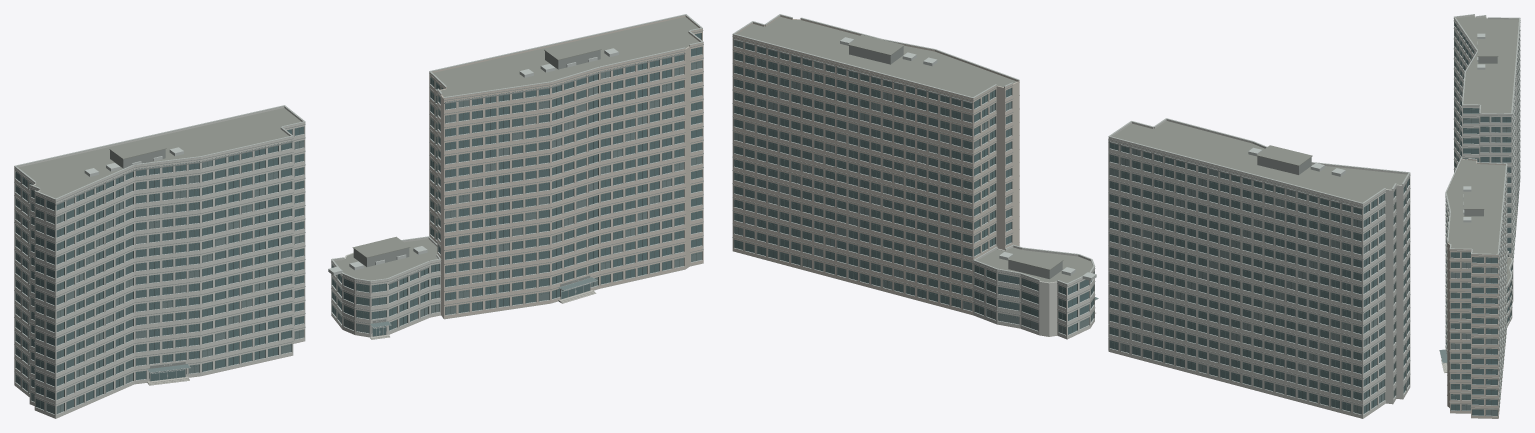
Rendered from north_faculty_blocks.glb.
The picture shows the model from 3 angles, left to right: view 1: azimuth 30°, elevation 25°; view 2: azimuth 150°, elevation 25°; view 3: azimuth 270°, elevation 25°; orthographic projection. The views are drawn at different scales.
Visible parts, largest first — view 1: TeachingAdministration_FacultyPalePanel, ManagementResearch_FacultyWarmPanel, TeachingAdministration_WindowGlass, ManagementResearch_WindowGlass, TeachingAdministration_FacultyDarkPanel, ManagementResearch_FacultyRoof, TeachingAdministration_FacultyRoof, TeachingAdministration_WindowReveal, ManagementResearch_FacultyDarkPanel, TeachingAdministration_WindowAluminium, ManagementResearch_WindowAluminium, ManagementResearch_WindowReveal (+11 smaller); view 2: TeachingAdministration_FacultyPalePanel, ManagementResearch_FacultyWarmPanel, TeachingAdministration_WindowGlass, ManagementResearch_WindowGlass, TeachingAdministration_FacultyDarkPanel, TeachingAdministration_WindowReveal, TeachingAdministration_FacultyRoof, ManagementResearch_FacultyRoof, ManagementResearch_FacultyDarkPanel, ManagementResearch_WindowReveal, TeachingAdministration_WindowAluminium, TeachingAdministration_WindowRubber (+11 smaller); view 3: ManagementResearch_FacultyWarmPanel, ManagementResearch_FacultyRoof, TeachingAdministration_FacultyRoof, ManagementResearch_WindowGlass, TeachingAdministration_FacultyPalePanel, ManagementResearch_FacultyDarkPanel, TeachingAdministration_FacultyDarkPanel, ManagementResearch_WindowAluminium, TeachingAdministration_WindowGlass, TeachingAdministration_WindowAluminium, ManagementResearch_WindowReveal, TeachingAdministration_WindowReveal (+8 smaller).
Part boxes in pixels (<box>): TeachingAdministration_FacultyPalePanel: <box>14,106,305,418</box>; ManagementResearch_FacultyWarmPanel: <box>429,15,703,318</box>; TeachingAdministration_WindowGlass: <box>16,126,303,409</box>; ManagementResearch_WindowGlass: <box>430,33,701,312</box>; TeachingAdministration_FacultyDarkPanel: <box>14,124,305,404</box>; ManagementResearch_FacultyRoof: <box>433,17,699,96</box>; TeachingAdministration_FacultyRoof: <box>18,108,301,198</box>; TeachingAdministration_WindowReveal: <box>15,126,304,414</box>; ManagementResearch_FacultyDarkPanel: <box>429,30,703,305</box>; TeachingAdministration_WindowAluminium: <box>15,134,304,414</box>; ManagementResearch_WindowAluminium: <box>430,48,702,315</box>; ManagementResearch_WindowReveal: <box>430,33,702,315</box>; TeachingAdministration_FacultyPalePanel: <box>1108,119,1410,418</box>; ManagementResearch_FacultyWarmPanel: <box>732,15,1019,314</box>; TeachingAdministration_WindowGlass: <box>1110,141,1408,413</box>; ManagementResearch_WindowGlass: <box>734,42,1011,307</box>; TeachingAdministration_FacultyDarkPanel: <box>1108,138,1410,405</box>; TeachingAdministration_WindowReveal: <box>1109,141,1409,414</box>; TeachingAdministration_FacultyRoof: <box>1112,121,1406,202</box>; ManagementResearch_FacultyRoof: <box>737,17,1016,97</box>; ManagementResearch_FacultyDarkPanel: <box>732,36,1019,301</box>; ManagementResearch_WindowReveal: <box>733,40,1012,308</box>; TeachingAdministration_WindowAluminium: <box>1109,147,1409,415</box>; TeachingAdministration_WindowRubber: <box>1110,144,1408,413</box>; ManagementResearch_FacultyWarmPanel: <box>1445,158,1507,418</box>; ManagementResearch_FacultyRoof: <box>1447,159,1505,253</box>; TeachingAdministration_FacultyRoof: <box>1456,16,1518,113</box>; ManagementResearch_WindowGlass: <box>1446,202,1497,415</box>; TeachingAdministration_FacultyPalePanel: <box>1454,15,1520,261</box>; ManagementResearch_FacultyDarkPanel: <box>1445,166,1507,408</box>; TeachingAdministration_FacultyDarkPanel: <box>1453,18,1520,259</box>; ManagementResearch_WindowAluminium: <box>1439,173,1507,416</box>; TeachingAdministration_WindowGlass: <box>1454,23,1511,253</box>; TeachingAdministration_WindowAluminium: <box>1454,26,1520,260</box>; ManagementResearch_WindowReveal: <box>1445,181,1506,415</box>; TeachingAdministration_WindowReveal: <box>1454,22,1520,259</box>.
Size of the model in its own units: 205 by 67.29 by 28.98.
